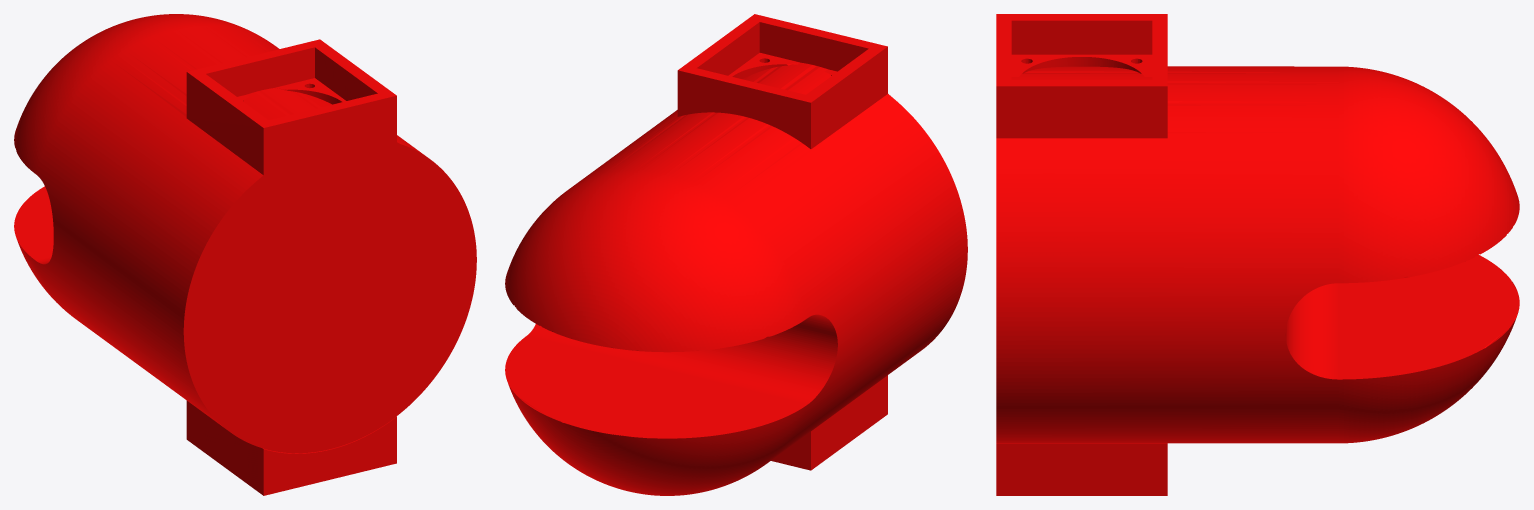
3 views of the same model, side by side, from view 1: azimuth 30°, elevation 25°; view 2: azimuth 150°, elevation 25°; view 3: azimuth 270°, elevation 25° (orthographic). The views are drawn at different scales.
Visible parts, largest first — view 1: link4_0.glb; view 2: link4_0.glb; view 3: link4_0.glb.
Part boxes in pixels (x1,y1,x2,y2): link4_0.glb: (14,14,476,495); link4_0.glb: (505,14,967,495); link4_0.glb: (996,14,1519,495).
Size of the model in its own units: 110 by 132 by 153.
